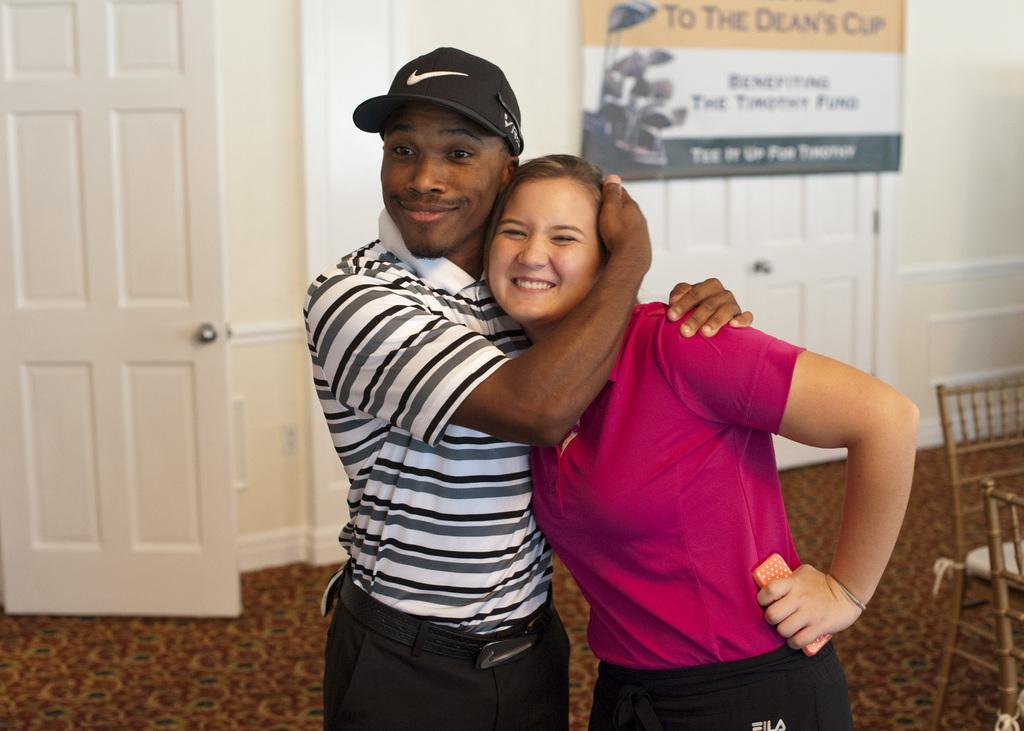Hat: (350, 41, 522, 154)
